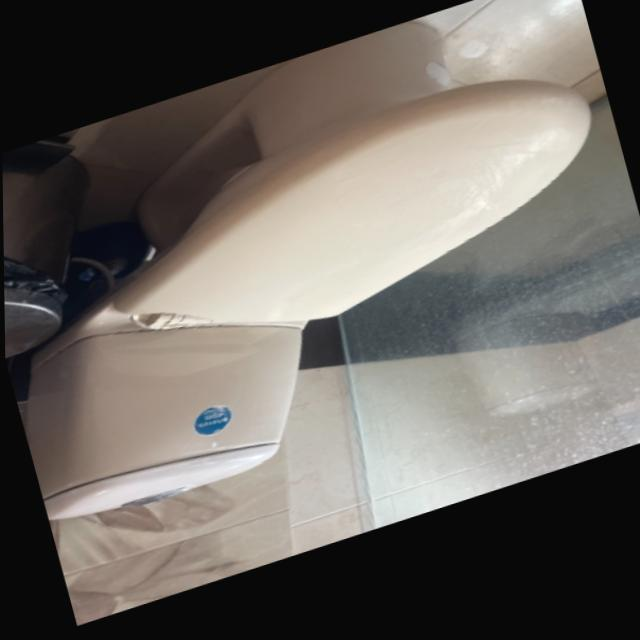toilet: (0, 0, 640, 539)
